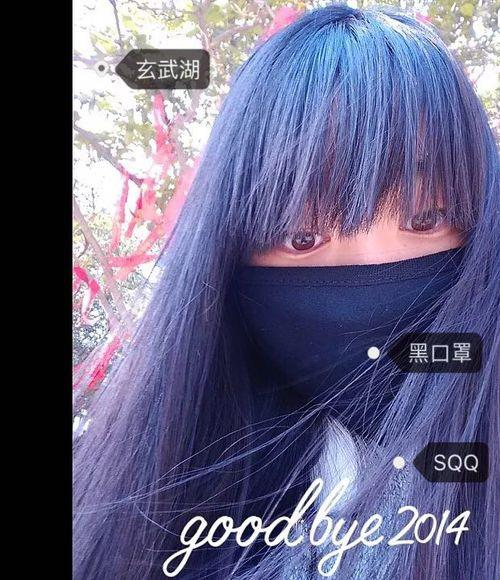OK: (249, 164, 494, 409)
